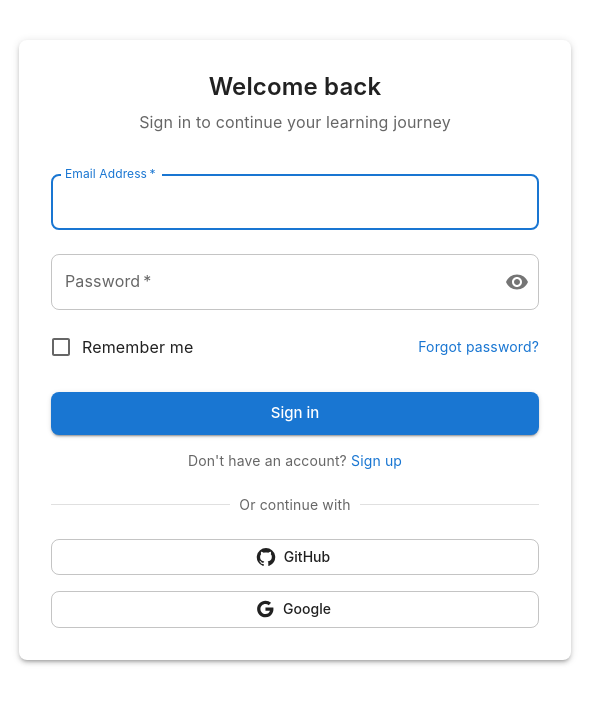
Test case: LoginPage › should clear field error when user starts typing
The image size is (591, 705).
Note: Trigger validation error
Click the button "Sign in". click: (295, 414)
box: x1=51 y1=392 x2=539 y2=435
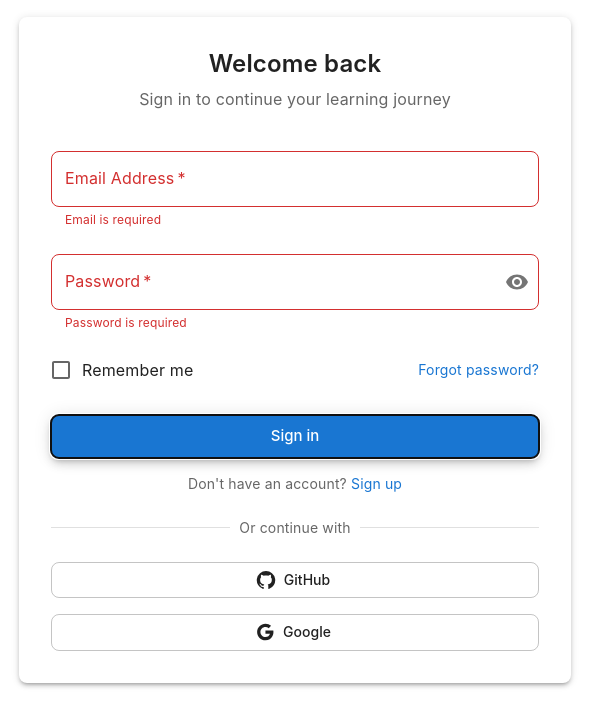
Result: the text "Email is required" is shown at x1=65 y1=212 x2=161 y2=228
Note: Start typing in email field
Type "t" into the field labelled "Email Address *". click: (295, 180)
box: x1=51 y1=152 x2=539 y2=208
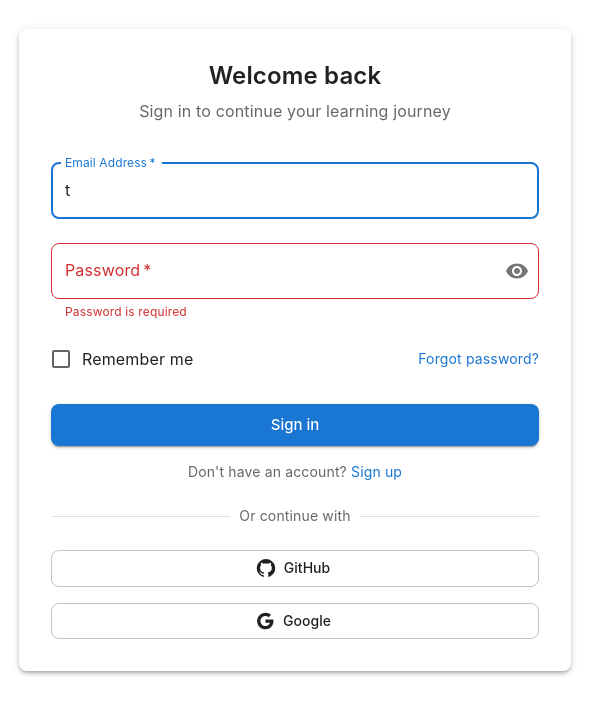
Result: the text "Email is required" is gone
